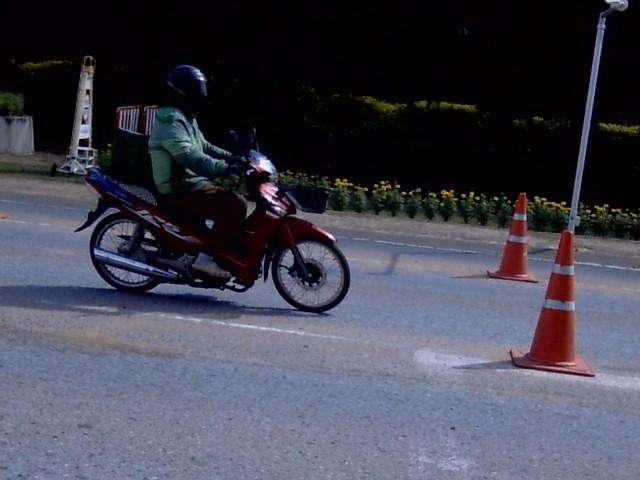helmet: (164, 64, 209, 110)
motor: (76, 150, 350, 312)
person: (148, 65, 246, 248), (193, 250, 231, 277)
